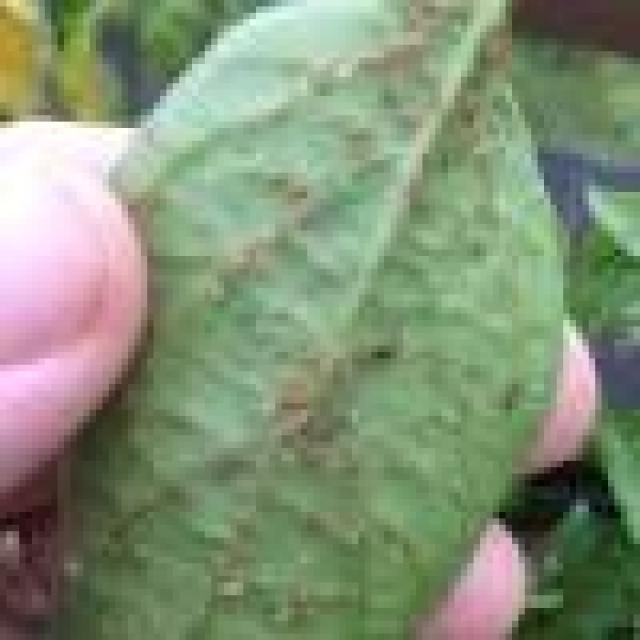Pestalotiopsis: (133, 0, 541, 640)
